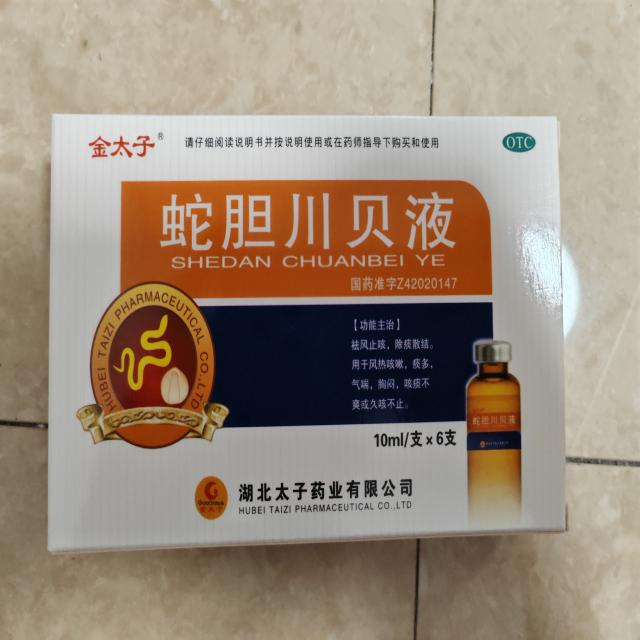box: (37, 102, 578, 566)
